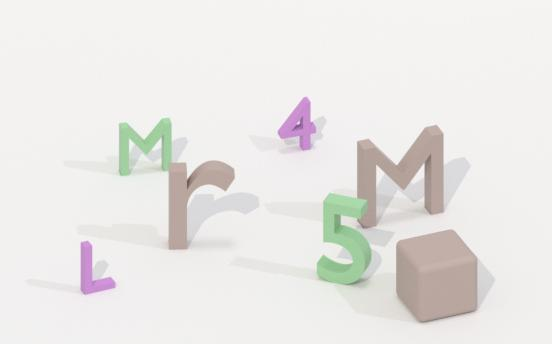4: (277, 92, 317, 152)
5: (312, 190, 374, 289)
M-hoa: (352, 122, 454, 227), (115, 113, 176, 178)
R: (164, 158, 243, 251)
hop: (393, 226, 486, 324)
l: (75, 233, 120, 296)
